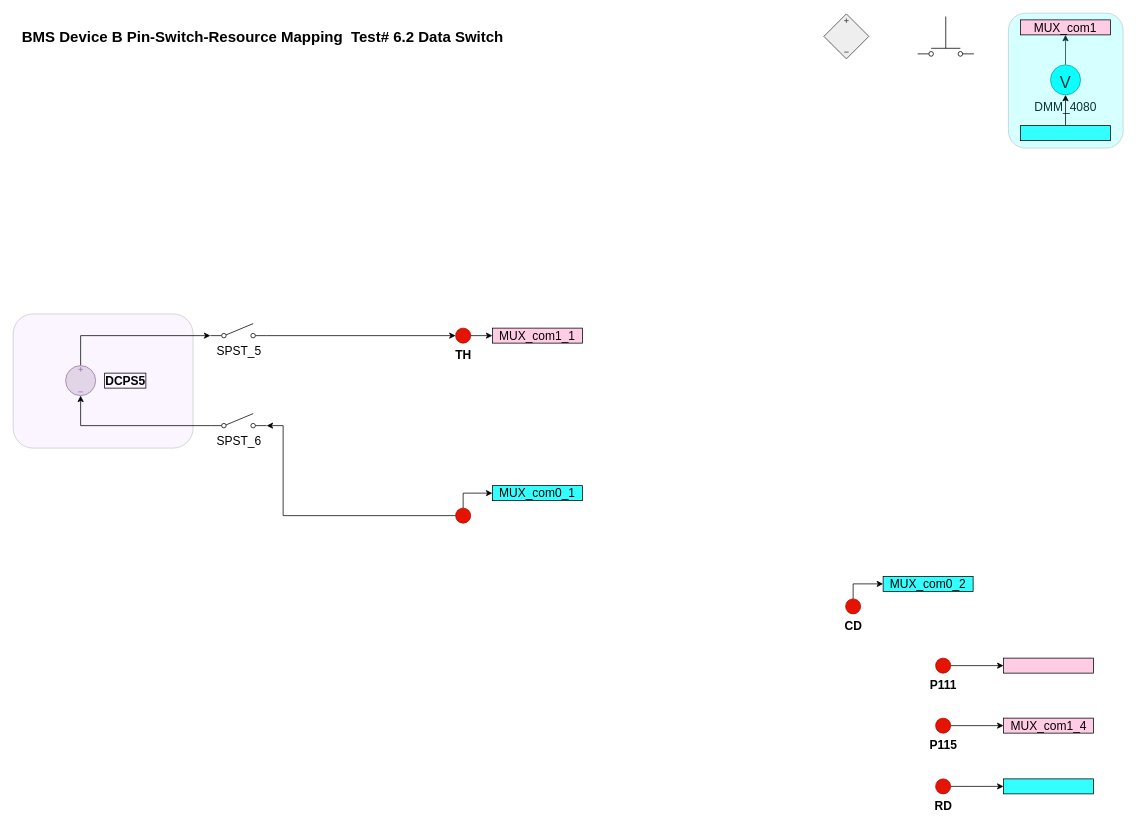
Some shapes in this 1136 by 827 pixel diagram are drawn without their labels. The centre of each missing label's shape, as x and y in pixels:
CH-: the point at 463,515
MUX_com0: the point at 1065,133
MUX_com0_3: the point at 1048,786
MUX_com1_3: the point at 1048,665
PPS_4113_1_ch0: the point at 80,380
RELAY PS: the point at 846,36
RELAY_2567: the point at 945,36
